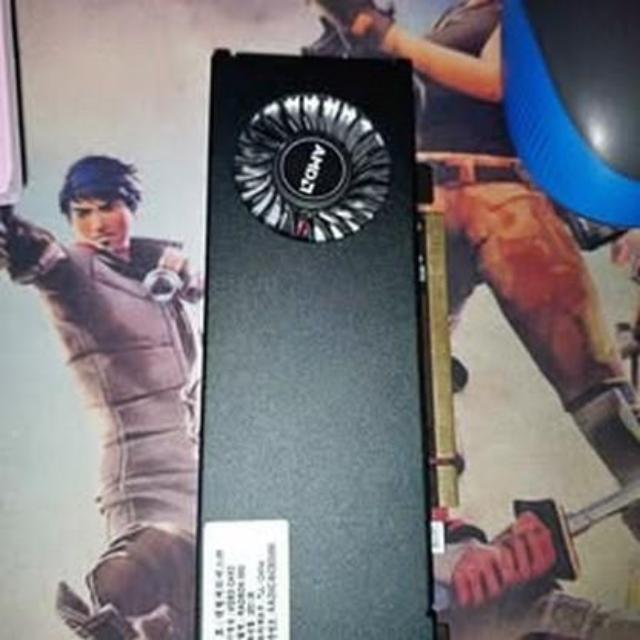GPU: (205, 46, 457, 640)
